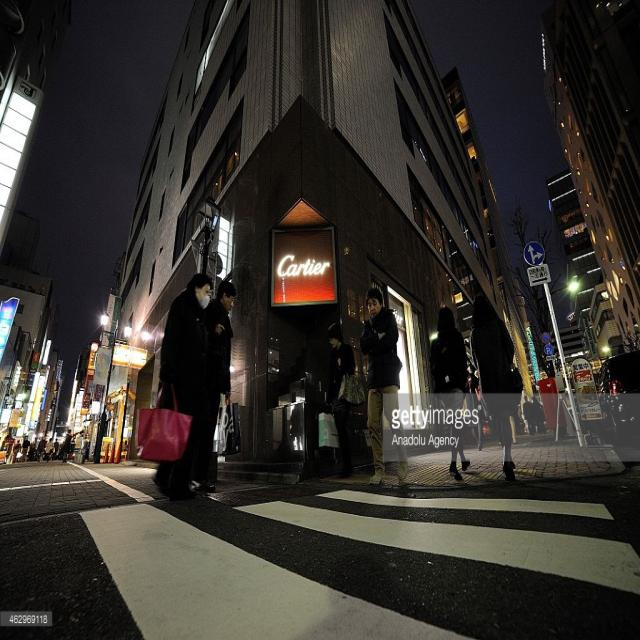body: (150, 272, 214, 506), (358, 286, 410, 485), (468, 293, 518, 484), (202, 278, 240, 494), (317, 320, 367, 480), (427, 305, 472, 481), (0, 424, 75, 465), (512, 390, 557, 444), (464, 356, 484, 452), (283, 401, 304, 455)
